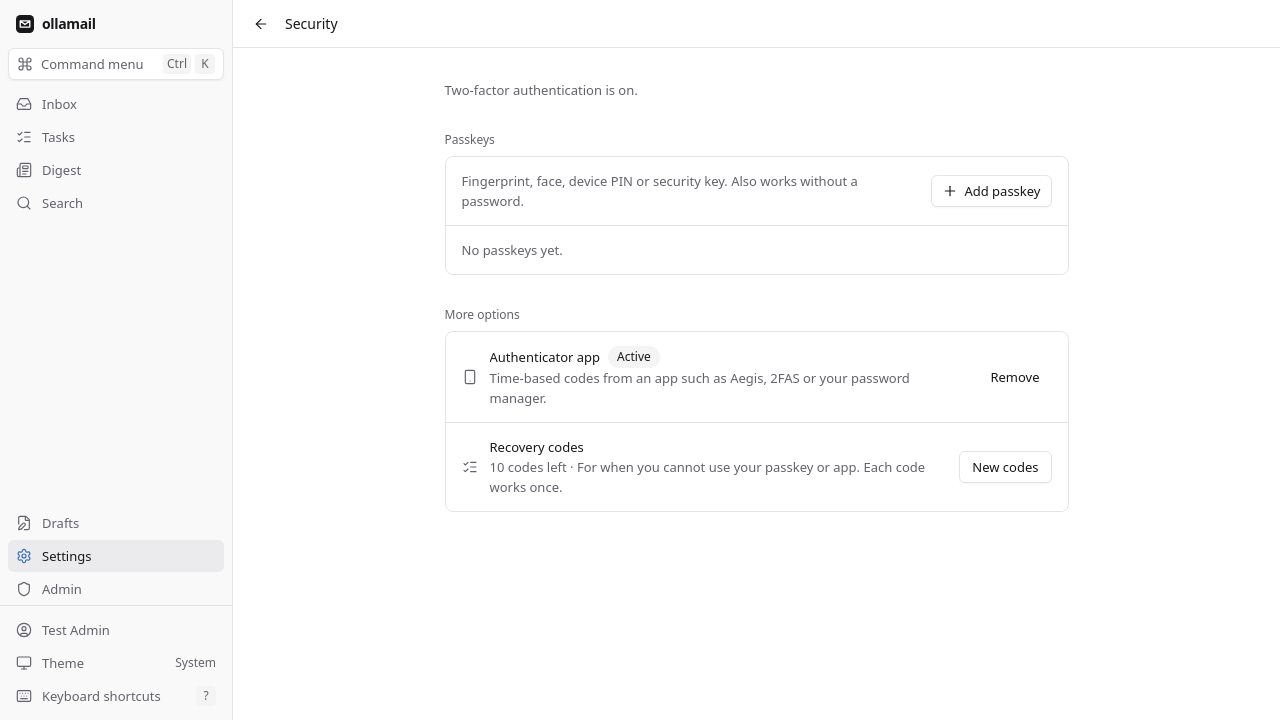
it: confirmation before sensitive actions › asks for the password and repeats the action
expect the heading "Security" is shown: met, box [285,14,338,34]
Click the button "Remove". click: point(1015, 377)
box: [978,361,1052,393]
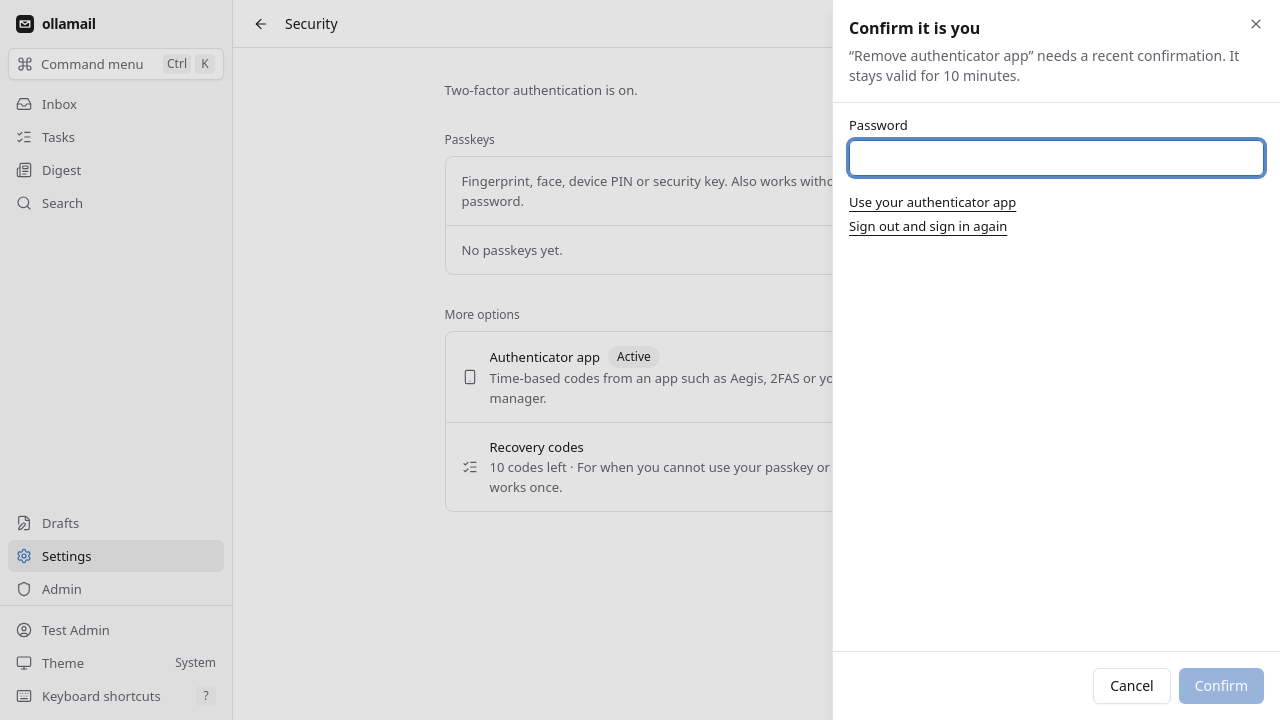
expect the dialog "Confirm it is you" shows "“Remove authenticator app” needs a recent confirmation. It stays valid for 10 minutes.": met, box [849,46,1239,85]
Type "wrong" into the password field labelled "Password". click: point(1056, 158)
box: [849,140,1264,176]
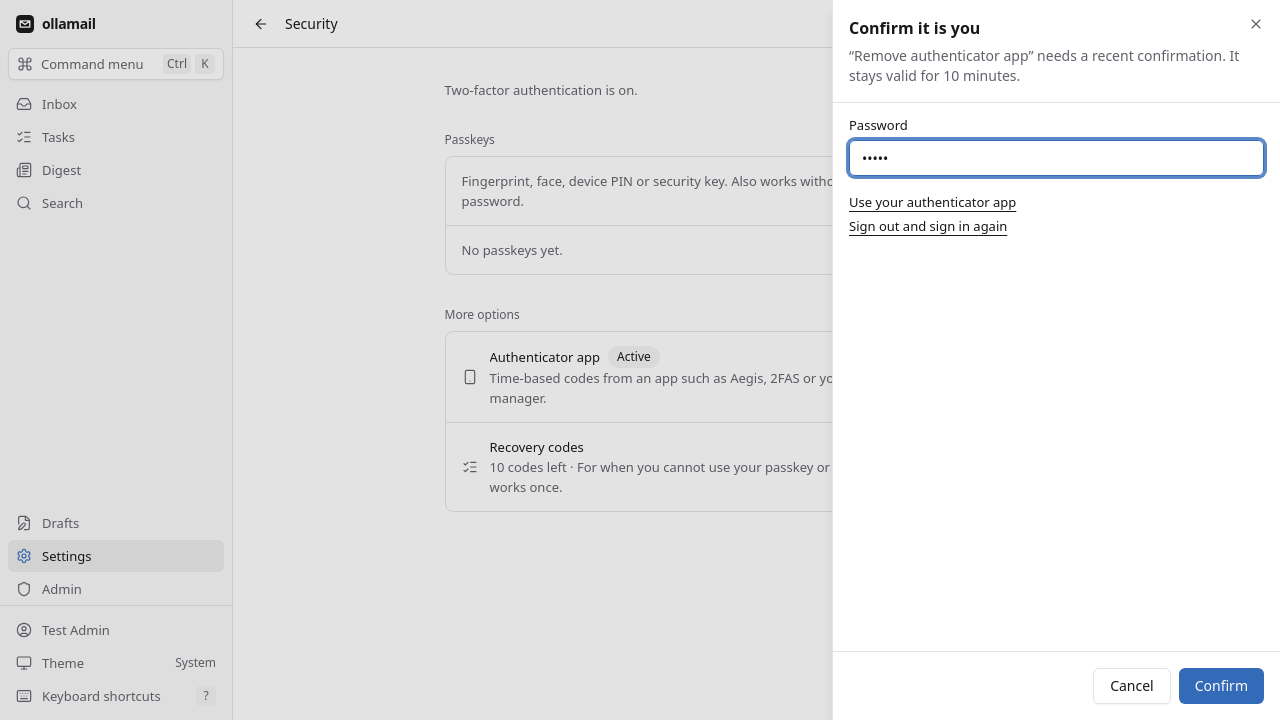
Click the button "Confirm". click: point(1221, 686)
box: [1179,668,1264,704]
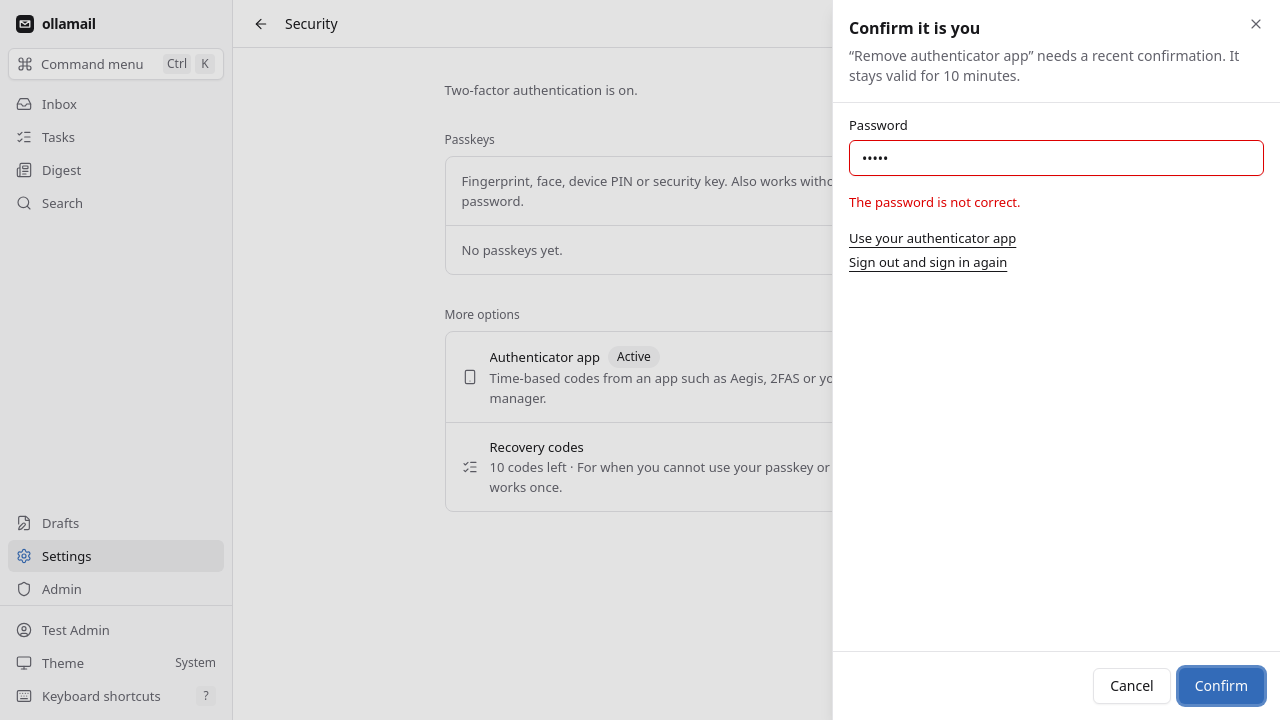
expect the message reads "The password is not correct.": met, box [849,193,1021,211]
Type "correct horse battery" into the password field labelled "Password". click: point(1056, 158)
box: [849,140,1264,176]
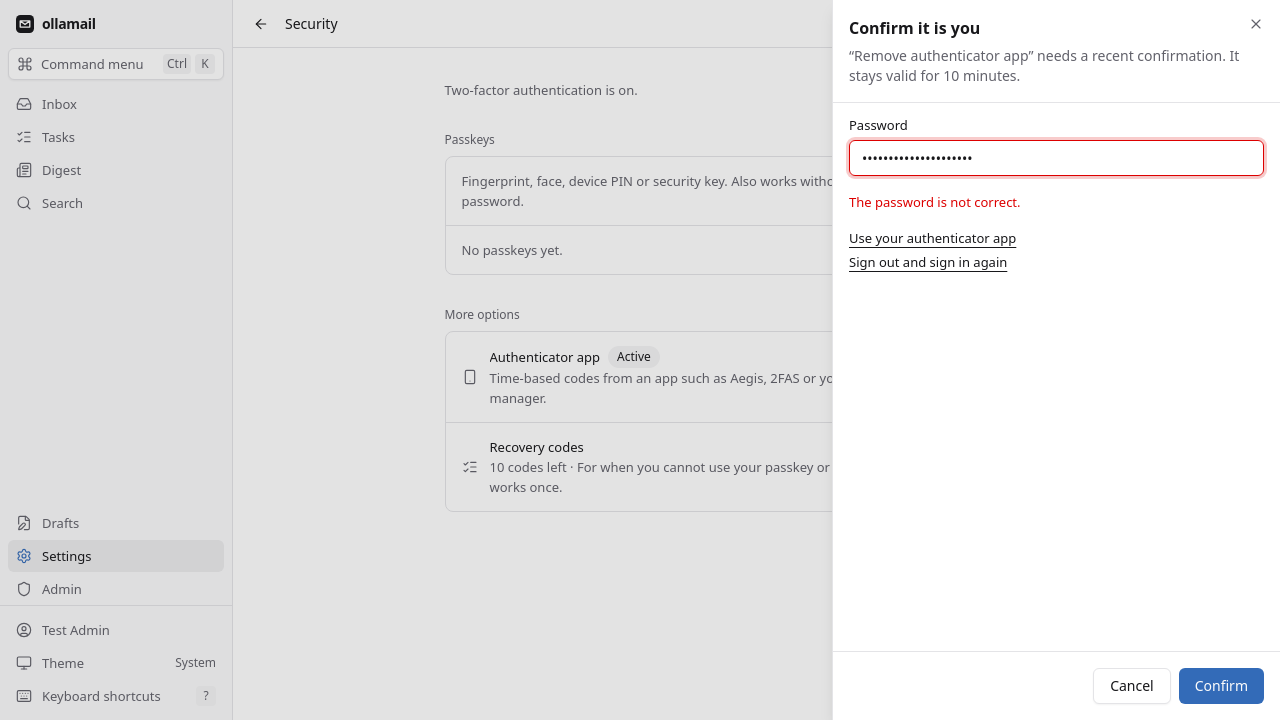
Click the button "Confirm". click: point(1221, 686)
box: [1179,668,1264,704]
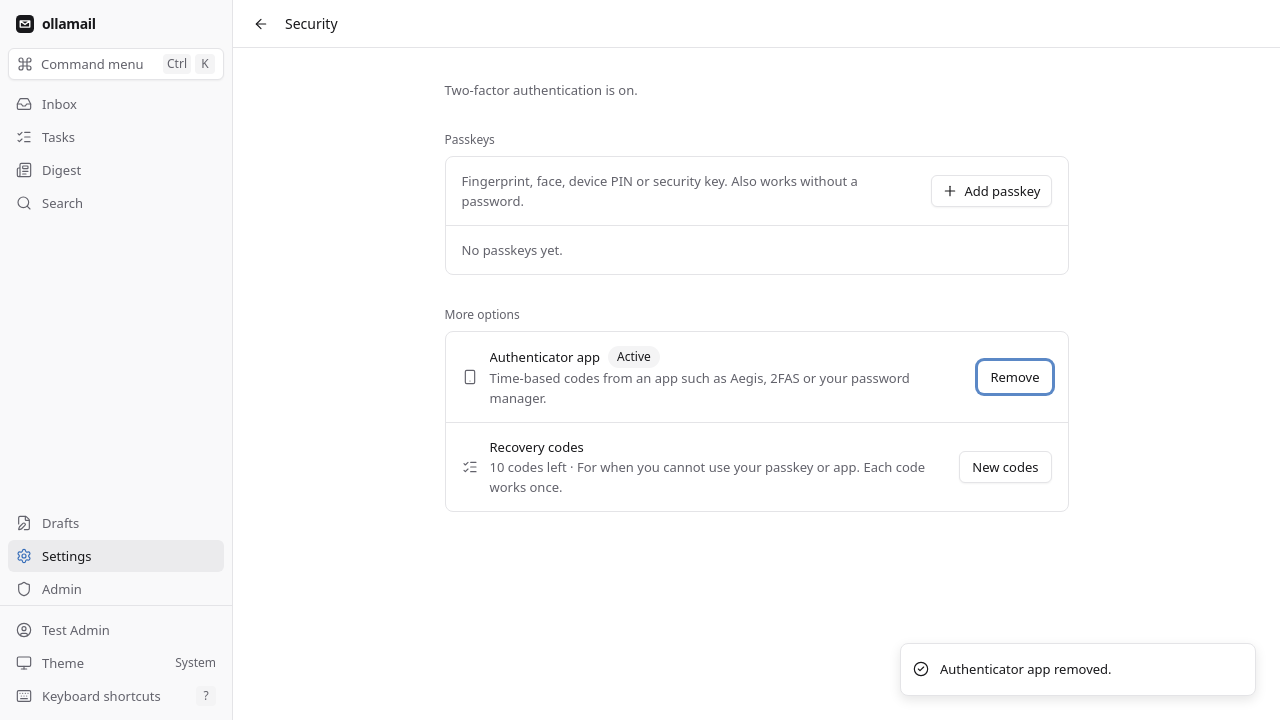
expect the text "Authenticator app removed." is shown: met, box [940,660,1112,679]
expect the heading "Confirm it is you" is gone: met
